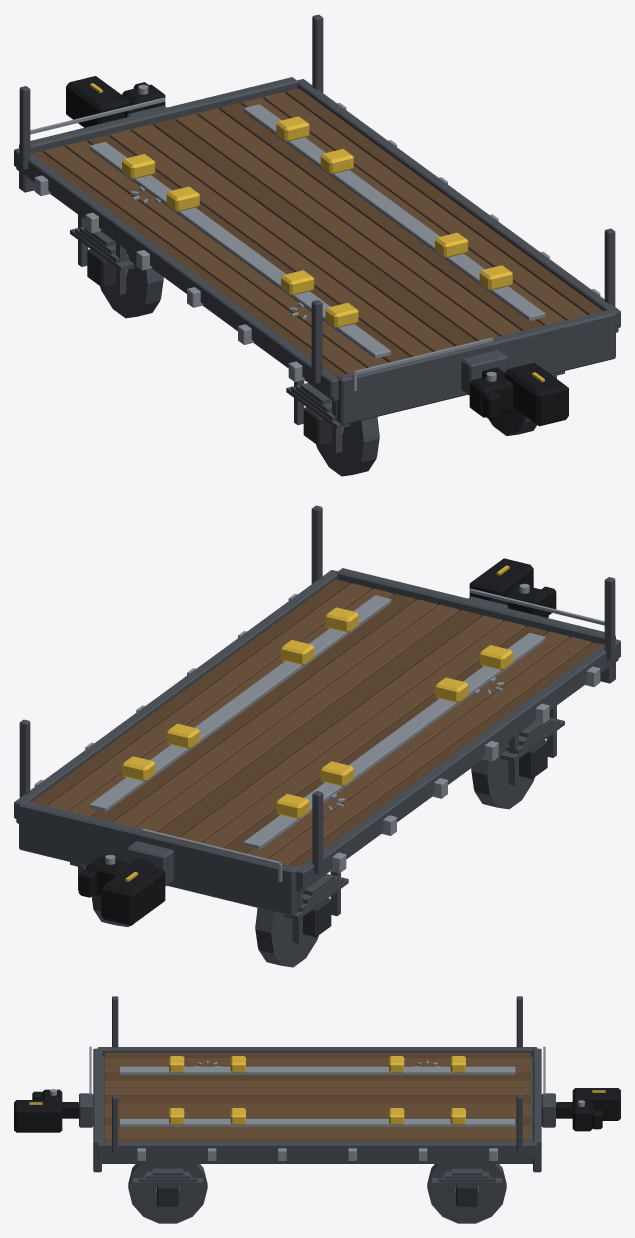
File: wagon_plateforme.glb
3 renders of one model, top to bottom at view 1: azimuth 30°, elevation 25°; view 2: azimuth 150°, elevation 25°; view 3: azimuth 270°, elevation 25°, orthographic. The views are drawn at different scales.
Parts seen in each view (by area): view 1: pieces_traverse.002, pieces_acier_sombre.002, pieces_bois_sombre.002, pieces_acier.002, pieces_jaune.002, attelage_av_noir.002, attelage_ar_noir.002, roues_av_acier_sombre.002, roues_ar_acier_sombre.002, pieces_fonte.002, attelage_av_acier_sombre.002, roues_av_fonte.002; view 2: pieces_traverse.002, pieces_acier_sombre.002, pieces_bois_sombre.002, pieces_acier.002, pieces_jaune.002, attelage_ar_noir.002, attelage_av_noir.002, roues_ar_acier_sombre.002, roues_av_acier_sombre.002, pieces_fonte.002, attelage_ar_acier_sombre.002; view 3: pieces_traverse.002, pieces_acier_sombre.002, pieces_bois_sombre.002, pieces_acier.002, roues_ar_acier_sombre.002, roues_av_acier_sombre.002, pieces_jaune.002, attelage_ar_noir.002, attelage_av_noir.002, pieces_fonte.002, attelage_ar_acier_sombre.002, attelage_av_acier_sombre.002.
Part boxes in pixels (box(x1,y1,x2,y2)): pieces_traverse.002: box(43, 92, 587, 373); pieces_acier_sombre.002: box(14, 14, 620, 452); pieces_bois_sombre.002: box(31, 88, 603, 376); pieces_acier.002: box(30, 97, 600, 391); pieces_jaune.002: box(122, 116, 512, 328); attelage_av_noir.002: box(469, 362, 568, 426); attelage_ar_noir.002: box(66, 76, 165, 127); roues_av_acier_sombre.002: box(316, 417, 536, 476); roues_ar_acier_sombre.002: box(100, 250, 163, 318); pieces_fonte.002: box(87, 249, 331, 446); attelage_av_acier_sombre.002: box(461, 350, 507, 395); roues_av_fonte.002: box(376, 407, 525, 456); pieces_traverse.002: box(47, 583, 591, 864); pieces_acier_sombre.002: box(14, 505, 620, 943); pieces_bois_sombre.002: box(31, 579, 603, 867); pieces_acier.002: box(34, 588, 604, 882); pieces_jaune.002: box(122, 607, 512, 819); attelage_ar_noir.002: box(78, 856, 165, 925); attelage_av_noir.002: box(469, 558, 556, 617); roues_ar_acier_sombre.002: box(91, 895, 318, 967); roues_av_acier_sombre.002: box(471, 741, 534, 809); pieces_fonte.002: box(303, 740, 547, 937); attelage_ar_acier_sombre.002: box(127, 841, 173, 886); pieces_traverse.002: box(104, 1058, 530, 1139); pieces_acier_sombre.002: box(93, 996, 541, 1203); pieces_bois_sombre.002: box(104, 1052, 530, 1141); pieces_acier.002: box(89, 1046, 545, 1160); roues_ar_acier_sombre.002: box(427, 1164, 506, 1223); roues_av_acier_sombre.002: box(128, 1164, 207, 1223); pieces_jaune.002: box(169, 1056, 465, 1124); attelage_ar_noir.002: box(556, 1088, 620, 1131); attelage_av_noir.002: box(14, 1089, 78, 1132); pieces_fonte.002: box(157, 1185, 477, 1206); attelage_ar_acier_sombre.002: box(541, 1093, 555, 1127); attelage_av_acier_sombre.002: box(79, 1093, 93, 1127).
Size of the model in its own units: 2.78 by 1.84 by 6.9.
